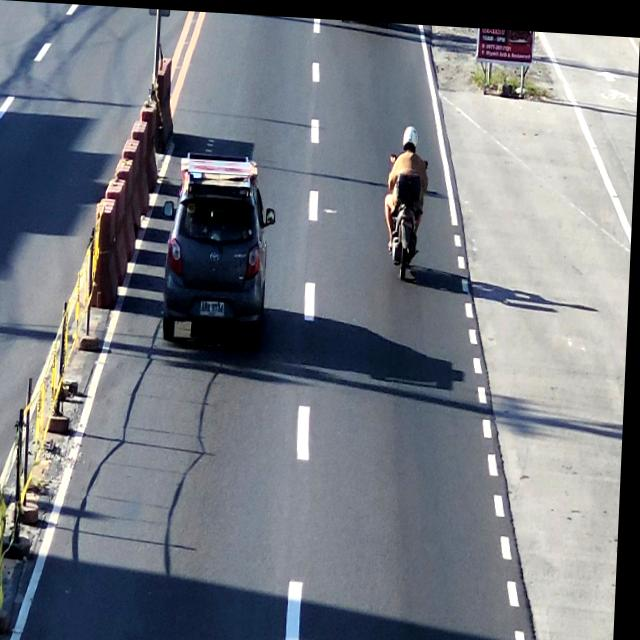Car: (164, 152, 274, 349)
License-Plate: (202, 297, 229, 313)
Motorcycle: (387, 120, 430, 278)
